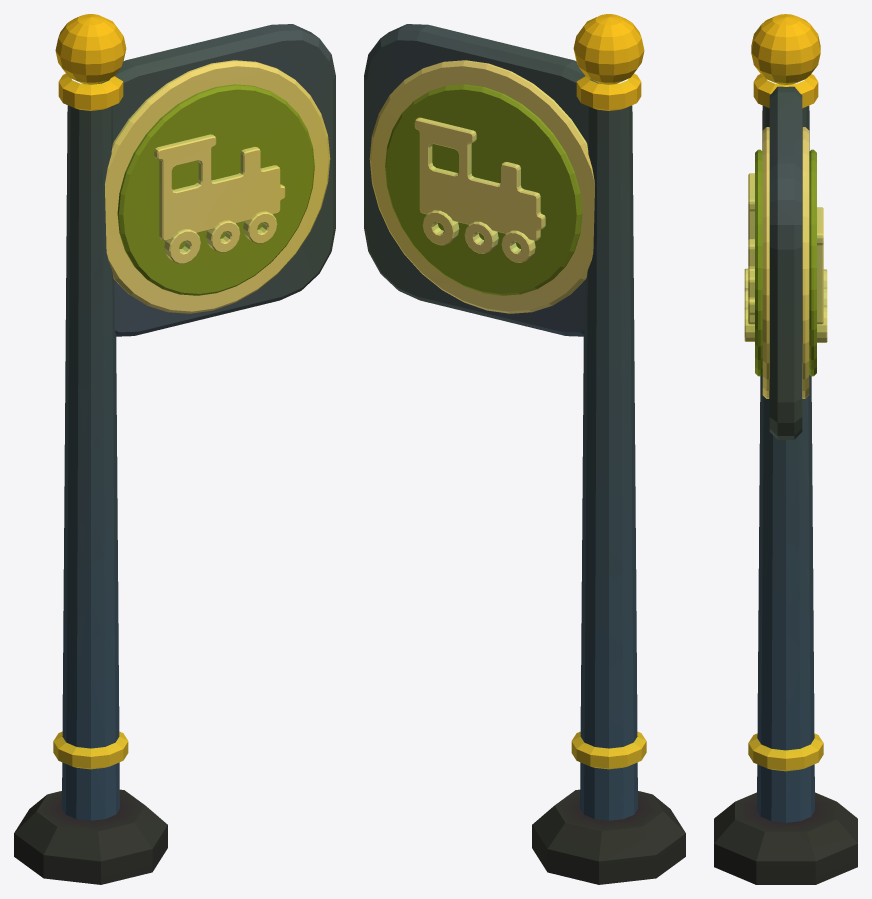
The model's file is Service_StopMarker.glb.
3 views of the same model, side by side, from view 1: azimuth 30°, elevation 25°; view 2: azimuth 150°, elevation 25°; view 3: azimuth 270°, elevation 25° (orthographic).
Parts seen in each view (by area): view 1: Service_StopMarker; view 2: Service_StopMarker; view 3: Service_StopMarker.
Boxes of the visible parts, box(x1,y1,x2,y2) form: Service_StopMarker: box(14, 14, 335, 884); Service_StopMarker: box(364, 14, 685, 884); Service_StopMarker: box(714, 14, 857, 884).
Size of the model in its own units: 0.5409 by 1.42 by 0.2217.
